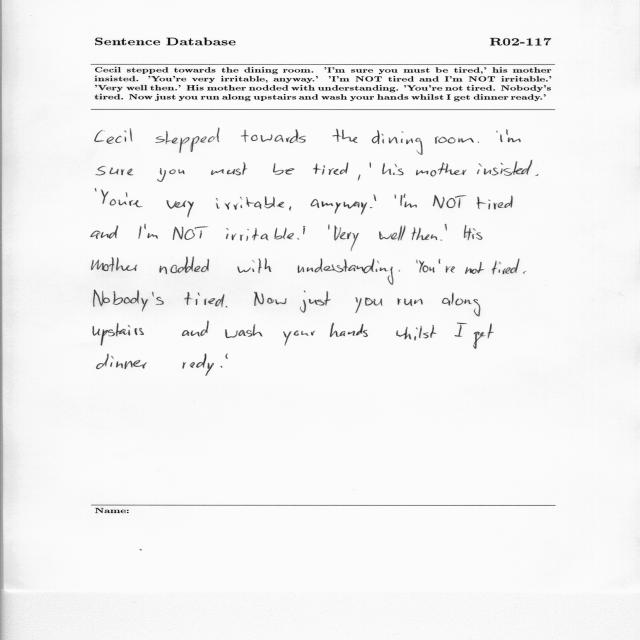word: (298, 258, 394, 285), (156, 128, 220, 153), (372, 130, 423, 155), (93, 323, 144, 346), (94, 290, 149, 311), (216, 196, 284, 210), (442, 293, 480, 317), (241, 129, 306, 143), (226, 228, 294, 241), (477, 160, 532, 176), (159, 257, 209, 274), (97, 354, 147, 369), (311, 199, 360, 214), (416, 163, 467, 177), (300, 290, 331, 313), (182, 354, 214, 376), (92, 257, 138, 272), (184, 292, 225, 308), (334, 226, 359, 251), (396, 325, 437, 340), (95, 128, 133, 144), (473, 323, 494, 349), (225, 324, 263, 338), (330, 323, 368, 337), (238, 259, 272, 274), (166, 200, 194, 218), (477, 196, 513, 210), (173, 226, 208, 240), (283, 331, 315, 346), (211, 163, 247, 176), (254, 292, 287, 306), (313, 162, 348, 175), (356, 297, 383, 313), (433, 195, 466, 208), (101, 190, 127, 206), (379, 226, 406, 241), (492, 259, 519, 274), (182, 321, 209, 336), (157, 168, 185, 182), (91, 225, 118, 239), (332, 129, 358, 143), (96, 166, 134, 175), (412, 228, 438, 241), (435, 137, 474, 144), (464, 225, 482, 240), (382, 163, 404, 175), (273, 163, 294, 175), (400, 194, 417, 208), (465, 262, 484, 274), (439, 259, 455, 273), (144, 224, 158, 239), (419, 260, 435, 273), (397, 298, 423, 306), (506, 129, 521, 142), (455, 322, 467, 337), (152, 292, 164, 305), (129, 200, 143, 207), (361, 202, 367, 215), (138, 226, 142, 239), (500, 135, 503, 143), (358, 174, 361, 181), (444, 224, 447, 231), (374, 195, 377, 201), (303, 226, 305, 235), (225, 354, 228, 359), (370, 162, 372, 168), (328, 224, 330, 230), (289, 206, 291, 211), (523, 271, 526, 274), (416, 260, 418, 264), (535, 174, 538, 176), (95, 189, 97, 192), (297, 238, 300, 240), (496, 131, 498, 133), (395, 195, 396, 199), (398, 270, 400, 272), (221, 366, 223, 368), (370, 207, 372, 208), (441, 240, 443, 241), (478, 142, 479, 143), (226, 306, 227, 307)
